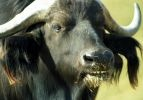buffalo: (0, 0, 141, 99)
